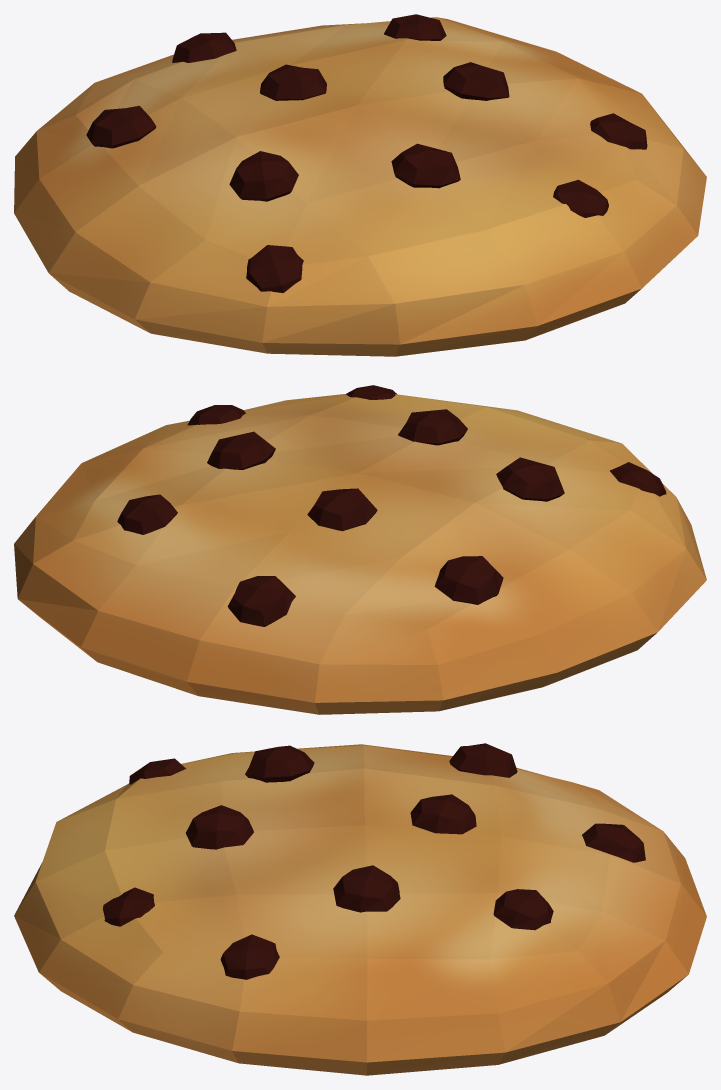
Rendered from cookie.obj.
3 views of the same model, one above another, from view 1: azimuth 30°, elevation 25°; view 2: azimuth 150°, elevation 25°; view 3: azimuth 270°, elevation 25° (orthographic). The views are drawn at different scales.
Bounding box in the file's own units: 4.49 × 0.9909 × 4.42.
Materials: 2 (1 with a texture image).
